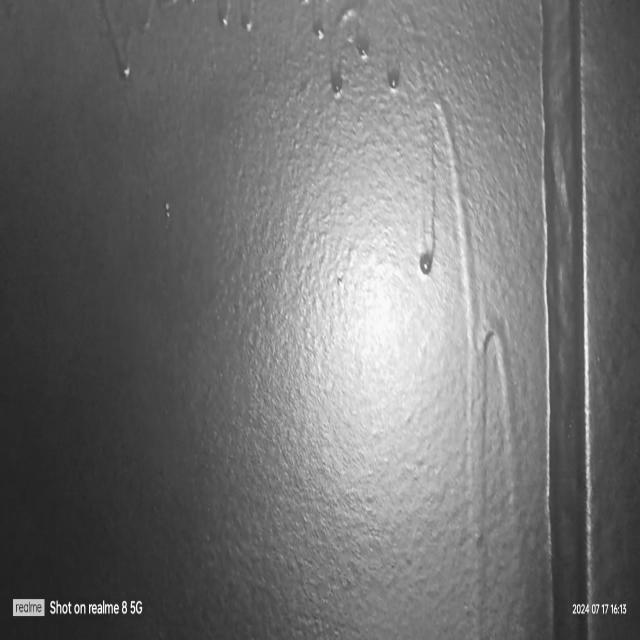paint drips: (413, 53, 529, 640), (303, 0, 408, 98), (86, 0, 160, 96), (208, 0, 266, 51)
